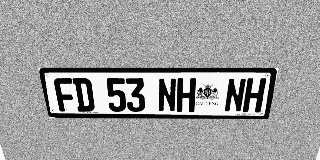3: (125, 78, 145, 112)
5: (106, 78, 127, 112)
D: (72, 78, 95, 112)
F: (53, 78, 77, 112)
H: (242, 78, 267, 112), (176, 78, 196, 112)
N: (224, 78, 247, 112), (158, 78, 177, 112)
